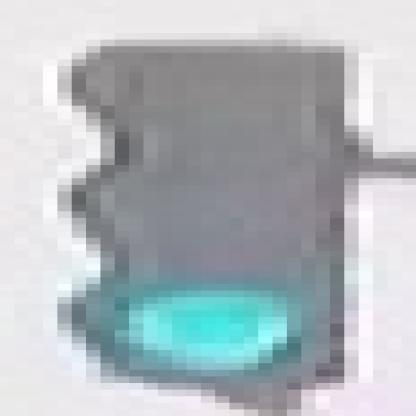Green Light: (66, 47, 344, 389)
